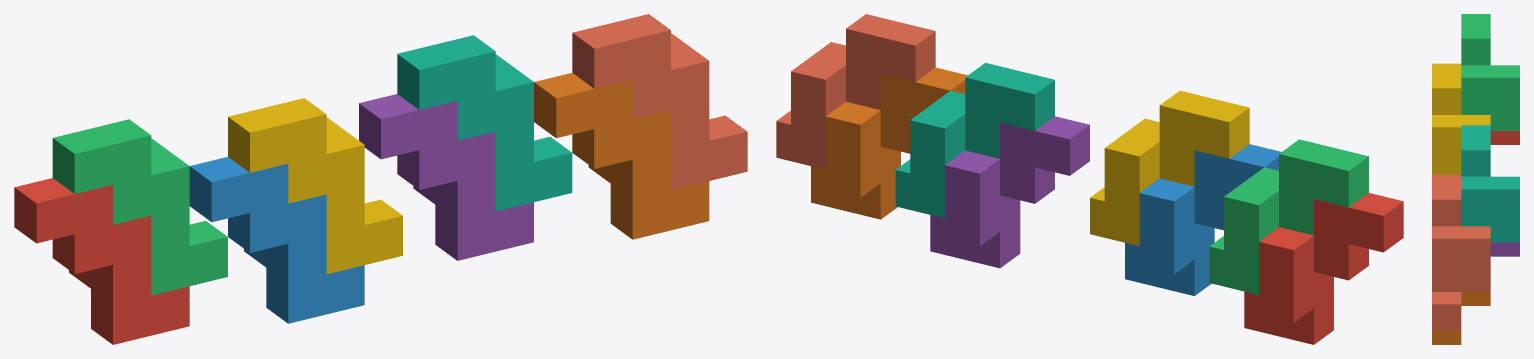
File: tiling.obj
3 renders of one model, left to right at view 1: azimuth 30°, elevation 25°; view 2: azimuth 150°, elevation 25°; view 3: azimuth 270°, elevation 25°, orthographic. The views are drawn at different scales.
Parts seen in each view (by area): view 1: copy_1_domain_2, copy_1_domain_1, copy_1_domain_6, copy_1_domain_5, copy_1_domain_7, copy_1_domain_8, copy_1_domain_3, copy_1_domain_4; view 2: copy_1_domain_5, copy_1_domain_1, copy_1_domain_4, copy_1_domain_8, copy_1_domain_3, copy_1_domain_7, copy_1_domain_6, copy_1_domain_2; view 3: copy_1_domain_8, copy_1_domain_7, copy_1_domain_3, copy_1_domain_4, copy_1_domain_6, copy_1_domain_5, copy_1_domain_1.
Part boxes in pixels (bbox=[...]): copy_1_domain_2: bbox=[189, 157, 364, 323]; copy_1_domain_1: bbox=[14, 178, 189, 344]; copy_1_domain_6: bbox=[534, 72, 709, 239]; copy_1_domain_5: bbox=[359, 94, 533, 260]; copy_1_domain_7: bbox=[397, 35, 572, 211]; copy_1_domain_8: bbox=[572, 14, 747, 190]; copy_1_domain_3: bbox=[52, 119, 227, 295]; copy_1_domain_4: bbox=[228, 98, 402, 274]; copy_1_domain_5: bbox=[930, 116, 1089, 268]; copy_1_domain_1: bbox=[1244, 193, 1403, 344]; copy_1_domain_4: bbox=[1090, 90, 1249, 246]; copy_1_domain_8: bbox=[776, 14, 935, 169]; copy_1_domain_3: bbox=[1209, 139, 1368, 294]; copy_1_domain_7: bbox=[895, 63, 1054, 218]; copy_1_domain_6: bbox=[811, 67, 967, 219]; copy_1_domain_2: bbox=[1125, 144, 1281, 295]; copy_1_domain_8: bbox=[1432, 175, 1490, 330]; copy_1_domain_7: bbox=[1461, 125, 1519, 242]; copy_1_domain_3: bbox=[1461, 14, 1519, 130]; copy_1_domain_4: bbox=[1432, 63, 1490, 174]; copy_1_domain_6: bbox=[1432, 292, 1490, 344]; copy_1_domain_5: bbox=[1490, 242, 1519, 256]; copy_1_domain_1: bbox=[1490, 131, 1519, 144].
Size of the model in its own units: 18 by 5 by 3.
